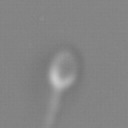normal: (41, 90, 70, 128)
